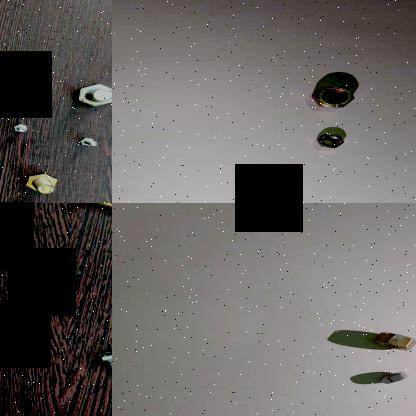Bolts: (66, 81, 112, 113), (17, 170, 62, 196), (44, 252, 84, 280), (91, 345, 112, 378), (68, 203, 112, 213), (74, 136, 100, 152), (10, 122, 30, 134)
NUTS: (367, 323, 416, 363), (307, 83, 361, 109), (362, 372, 410, 388), (316, 132, 346, 150)
